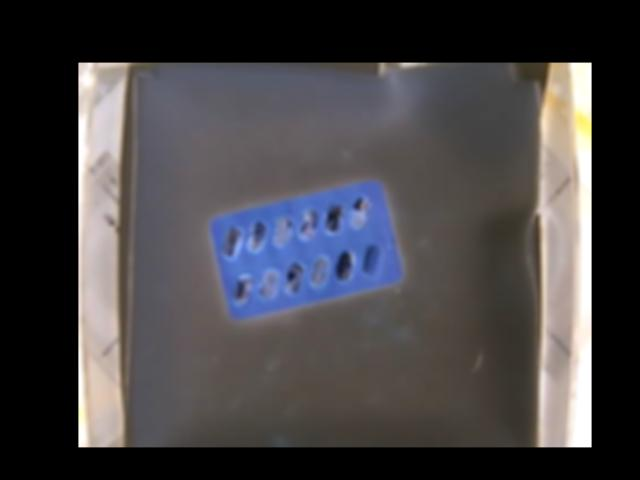Medicine: (210, 180, 402, 317)
